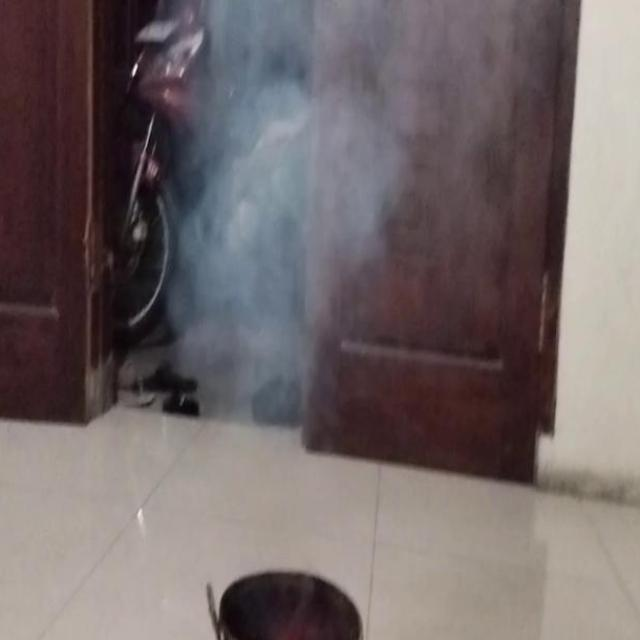fire: (179, 0, 509, 436)
